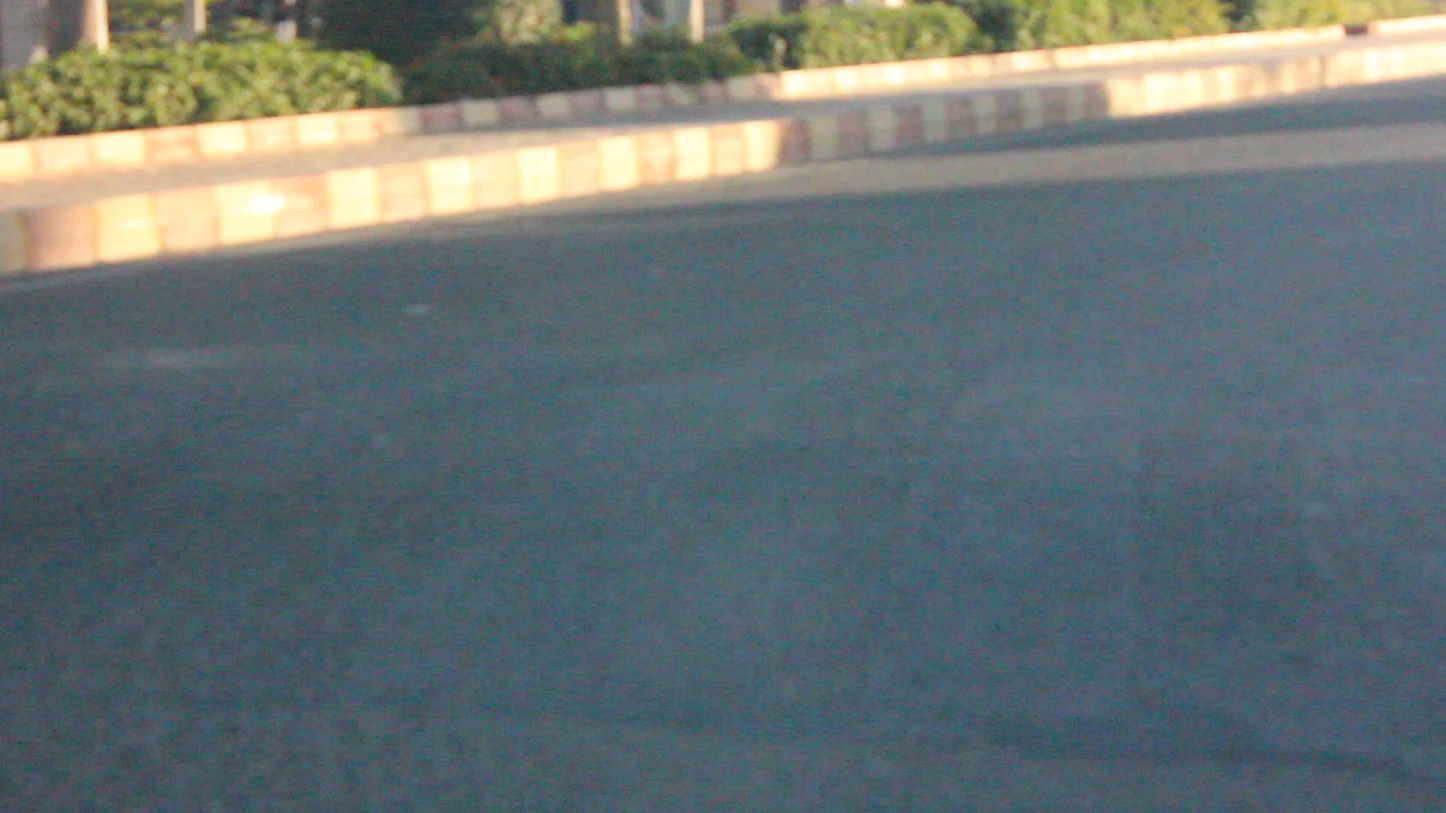Bump: (0, 346, 1445, 762)
